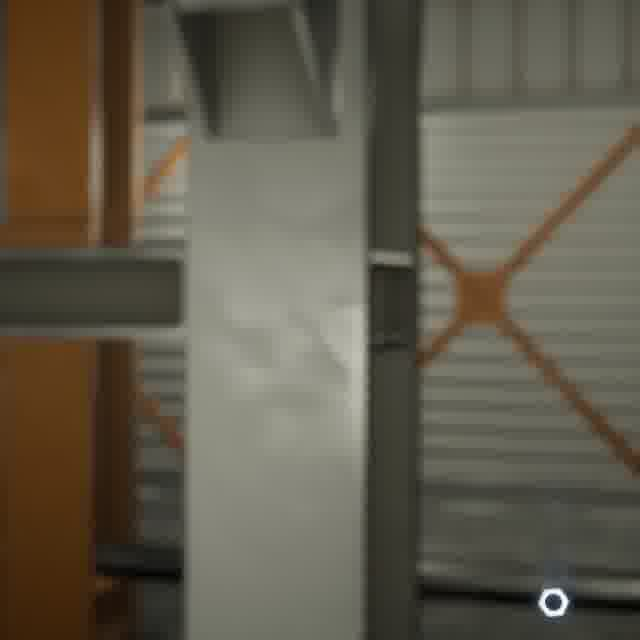nut: (533, 582, 574, 621)
